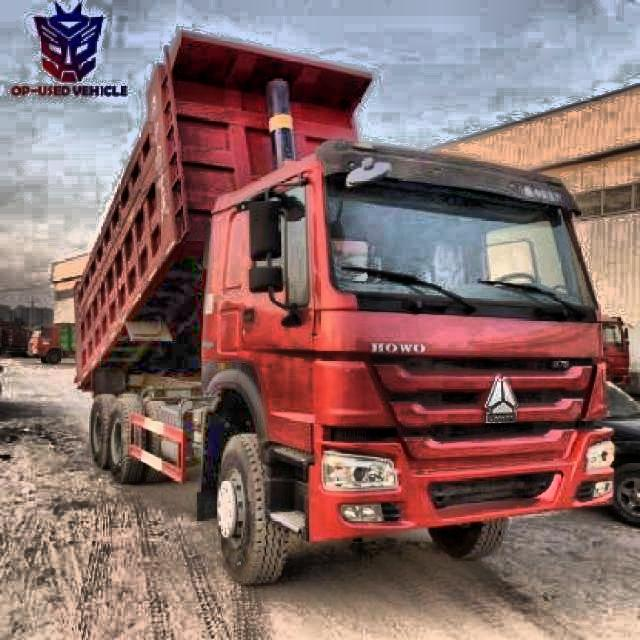dump_truck: (65, 25, 621, 593)
